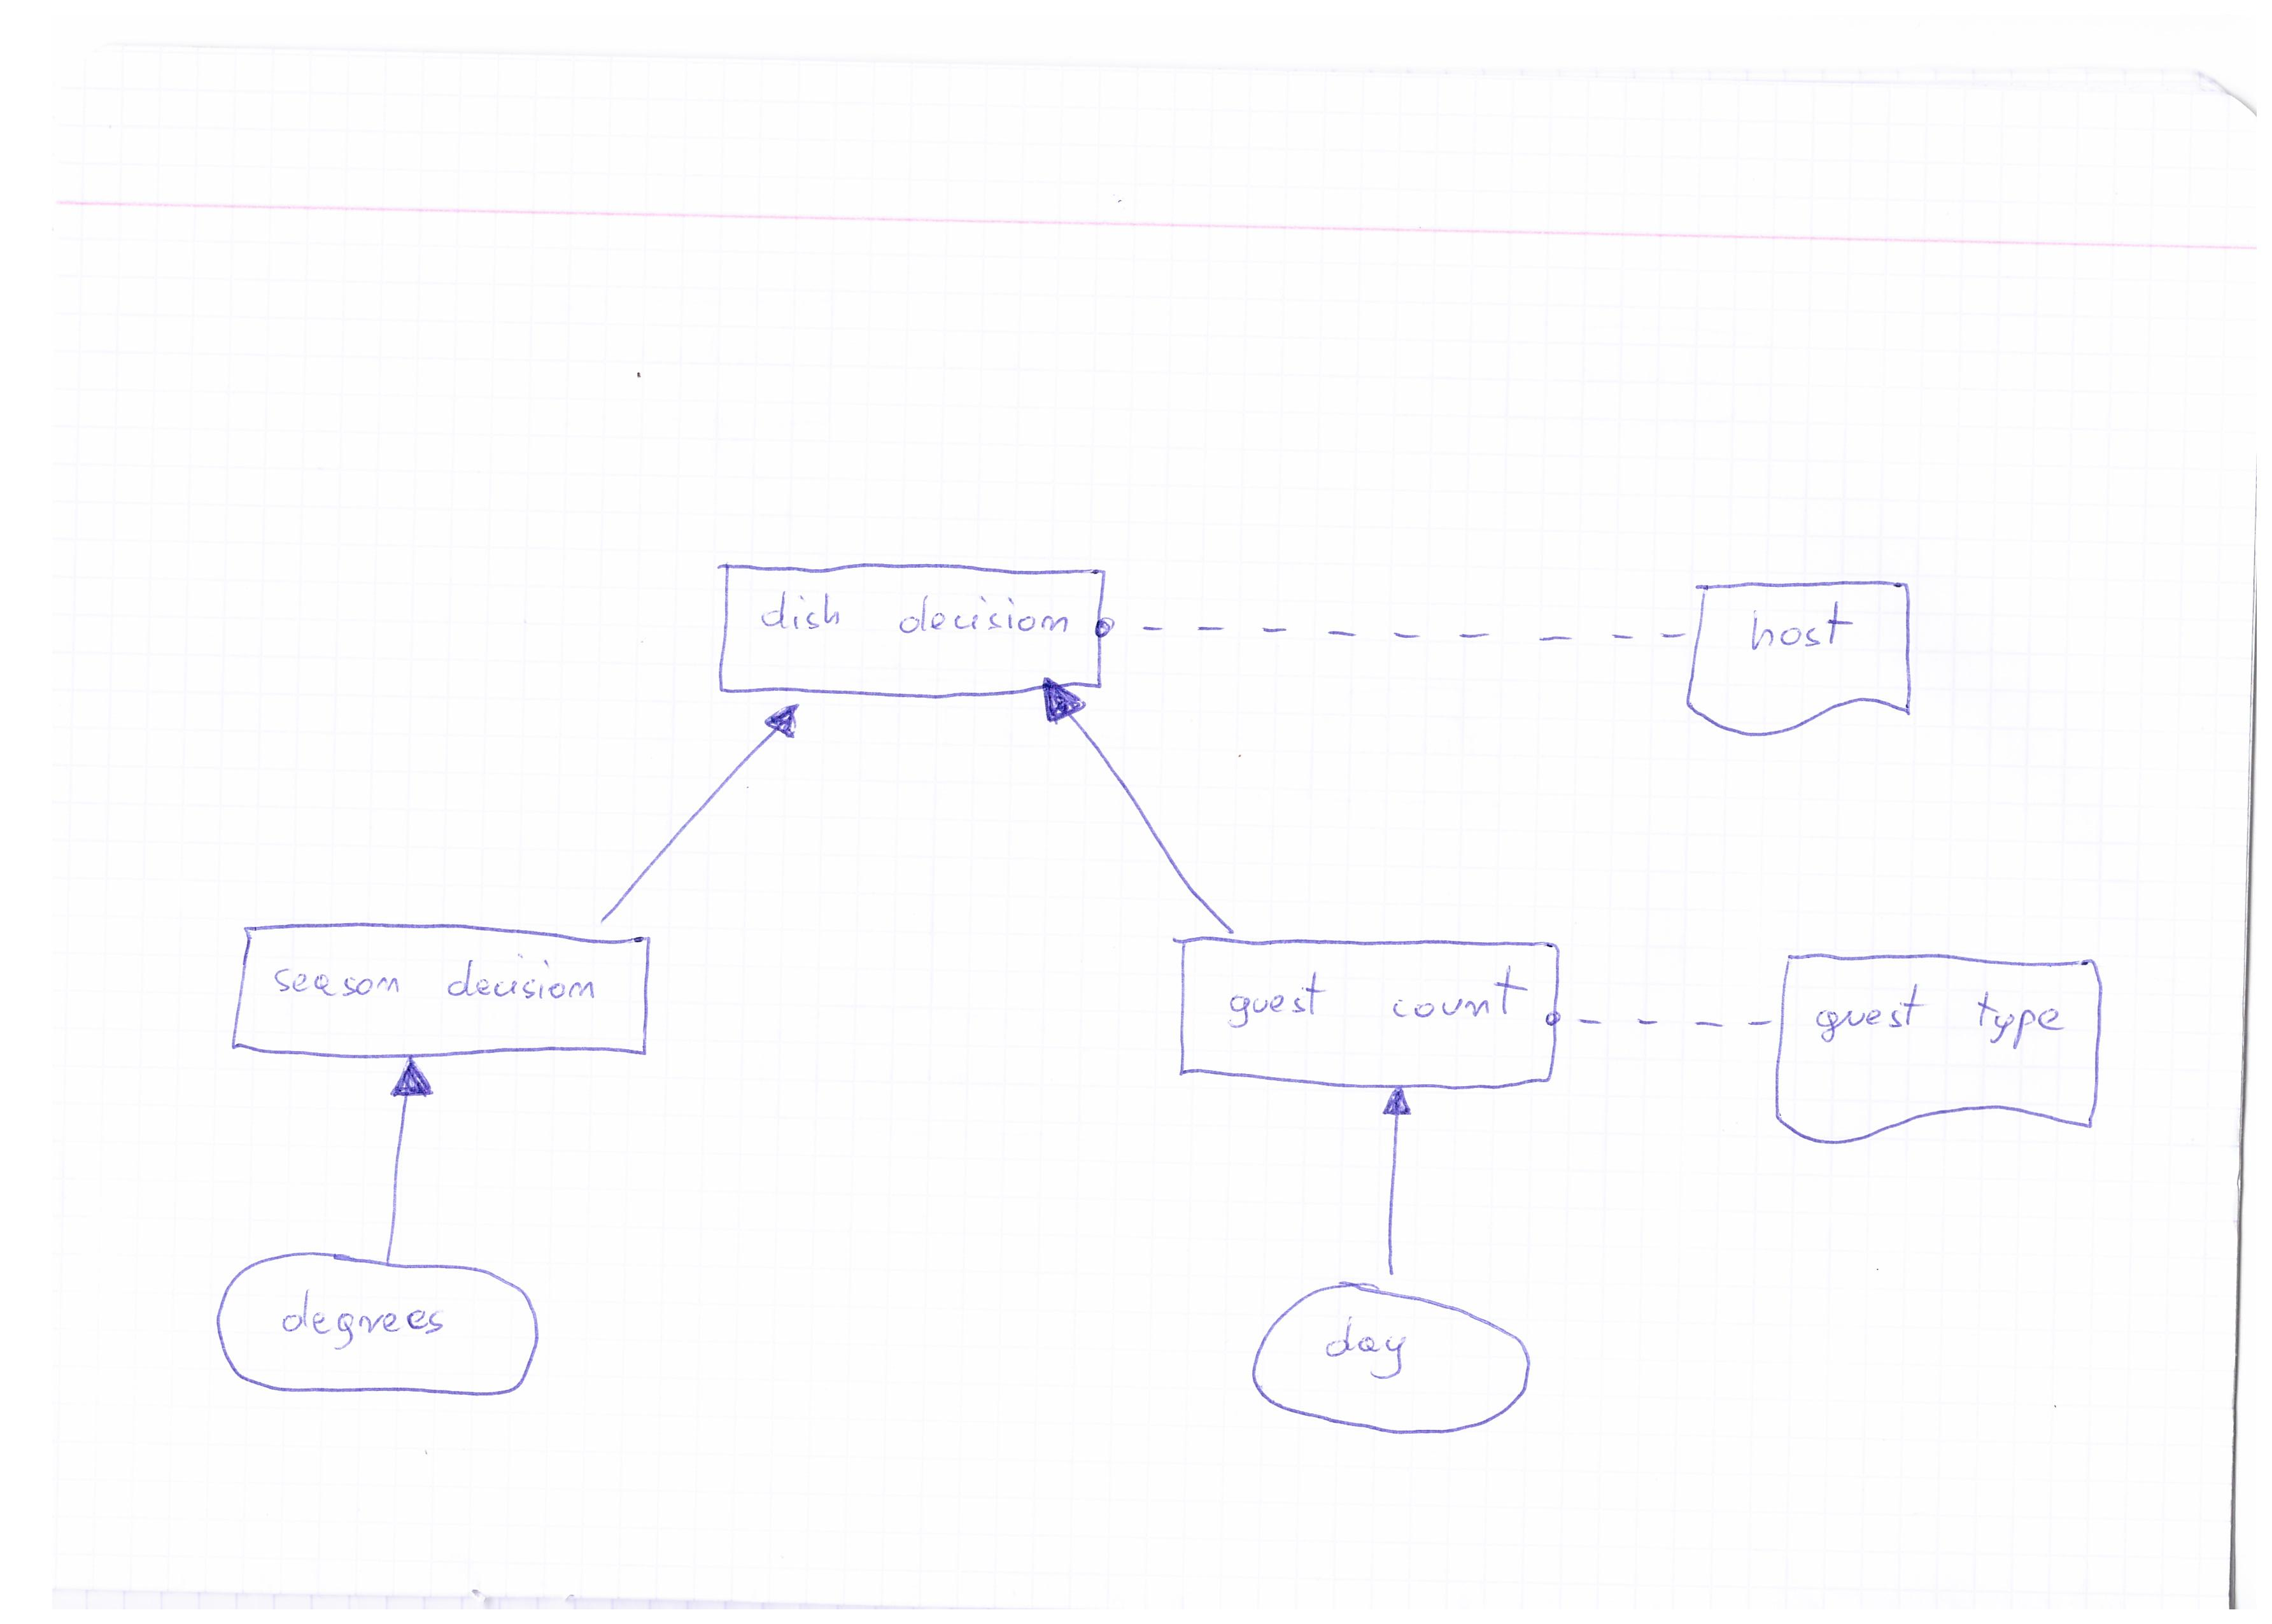arrow_authority_requirement: (1084, 619, 1696, 656), (1541, 1004, 1778, 1037)
arrow_information_requirement: (1028, 675, 1251, 940), (583, 701, 808, 930), (362, 1040, 446, 1260), (1360, 1074, 1427, 1281)
node_decision: (1160, 930, 1564, 1093), (221, 912, 648, 1058), (710, 554, 1105, 700)
node_input_data: (1225, 1280, 1553, 1454), (206, 1250, 554, 1413)
node_knowledge_source: (1773, 954, 2116, 1148), (1678, 576, 1929, 752)
text: (260, 942, 608, 1019), (1209, 958, 1525, 1040), (750, 582, 1079, 656), (1812, 977, 2075, 1056), (257, 1276, 459, 1360), (1740, 594, 1875, 663), (1309, 1311, 1416, 1387)
